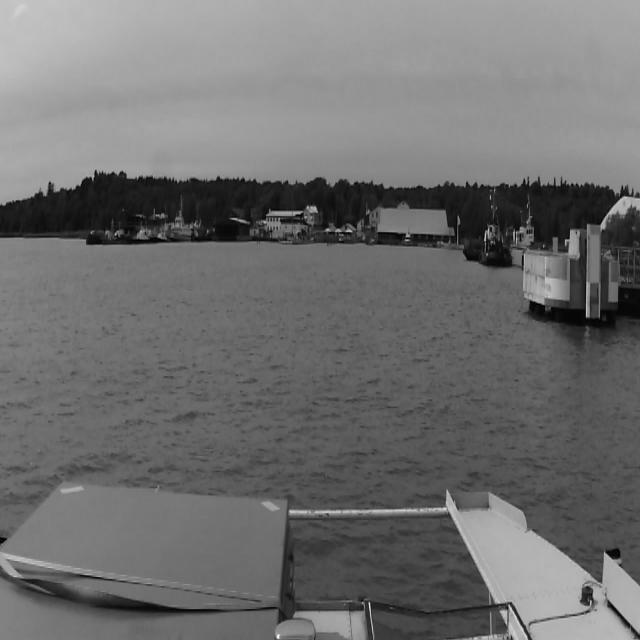ship: (479, 186, 513, 269), (166, 212, 192, 241), (403, 230, 412, 247)
